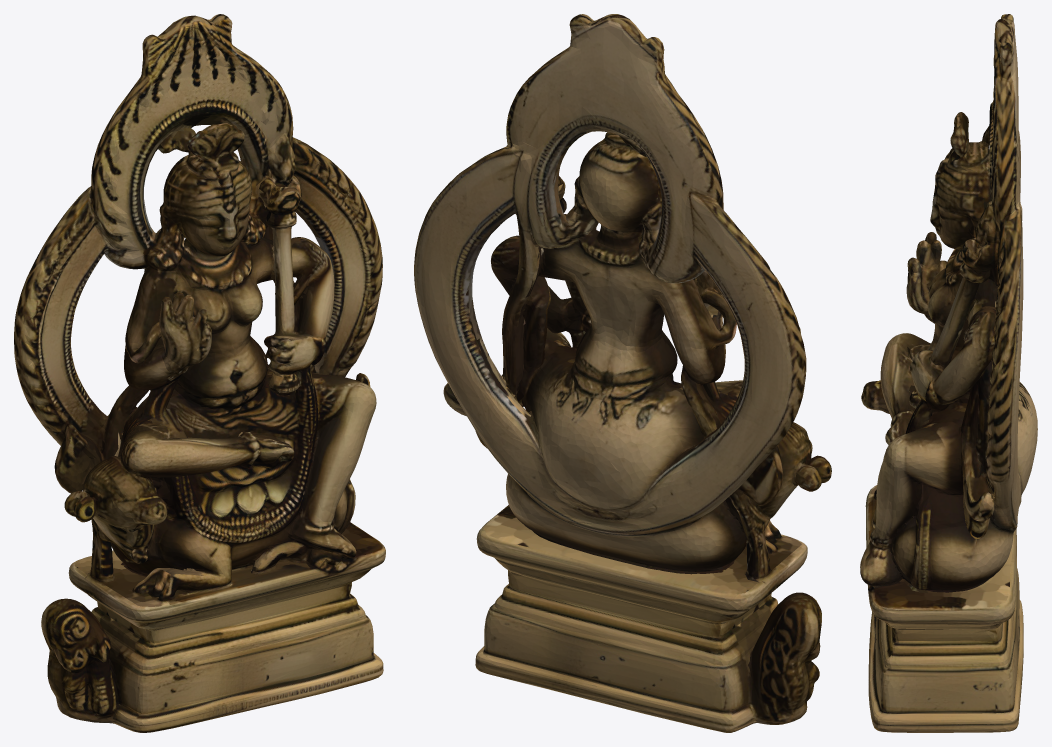
3 renders of one model, left to right at view 1: azimuth 30°, elevation 25°; view 2: azimuth 150°, elevation 25°; view 3: azimuth 270°, elevation 25°, orthographic. The views are drawn at different scales.
Parts seen in each view (by area): view 1: textured_mesh; view 2: textured_mesh; view 3: textured_mesh.
Part boxes in pixels (bbox=[...]): textured_mesh: bbox=[14, 14, 385, 732]; textured_mesh: bbox=[414, 14, 831, 732]; textured_mesh: bbox=[860, 14, 1037, 732].
Size of the model in its own units: 1.18 by 1.99 by 0.494.
Materials: 1 (1 with a texture image).
